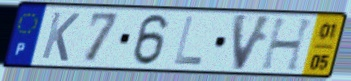6: (128, 12, 172, 68)
7: (85, 10, 121, 65)
H: (258, 17, 318, 74)
K: (38, 10, 82, 64)
L: (171, 14, 205, 67)
V: (231, 12, 276, 73)
